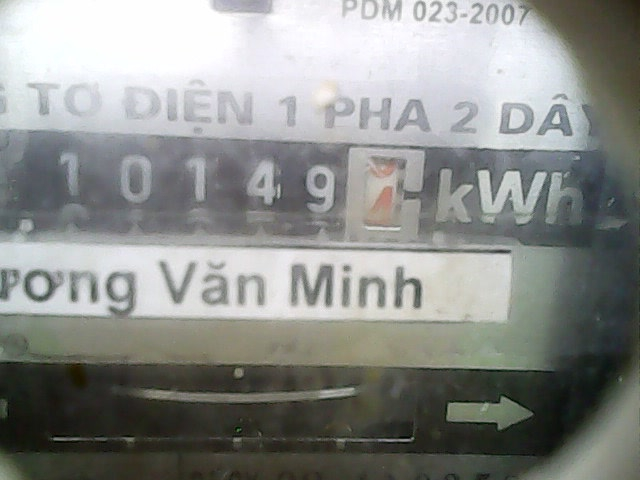phy_plate: (28, 123, 436, 253)
